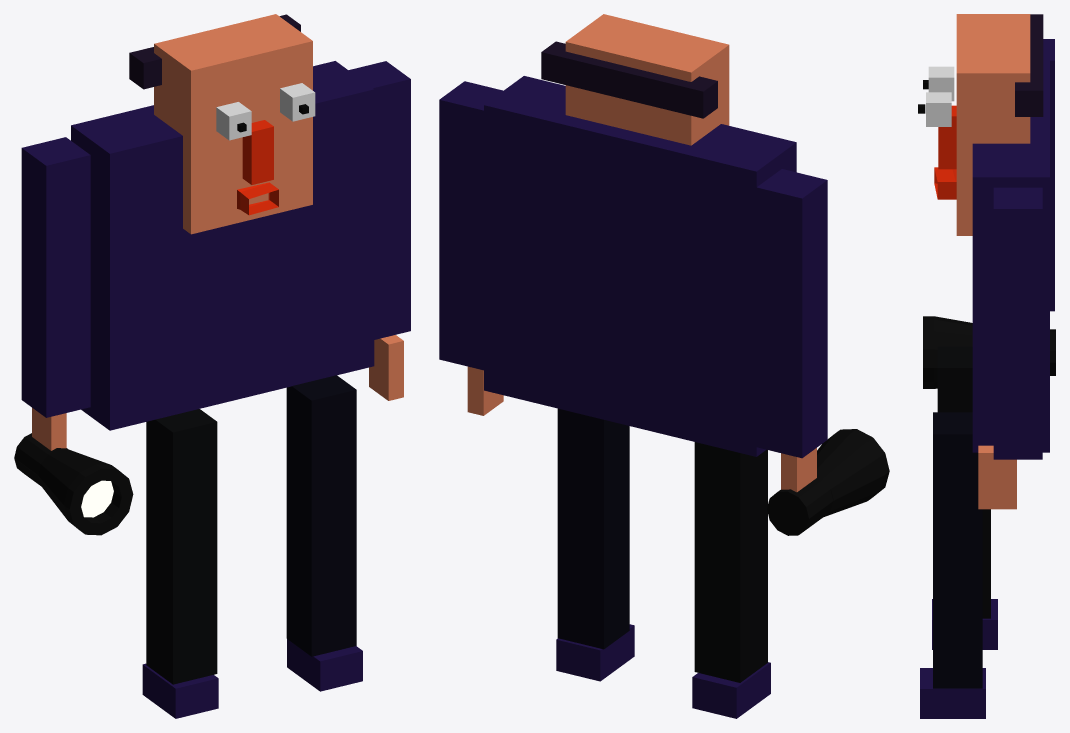
Rendered from man.glb.
The picture shows the model from 3 angles, left to right: view 1: azimuth 30°, elevation 25°; view 2: azimuth 150°, elevation 25°; view 3: azimuth 270°, elevation 25°; orthographic projection. The views are drawn at different scales.
Parts seen in each view (by area): view 1: Cube, Cube.001, Cube.005, Cube.006, Cube.004, Cube.003, Cylinder, Cube.008, Cube.007, Cube.009, Cube.011, Cube.014 (+4 smaller); view 2: Cube, Cube.004, Cube.006, Cube.005, Cube.003, Cube.001, Cylinder, Cube.014, Cube.008, Cube.007, Cube.010, Cube.009; view 3: Cube.003, Cube.005, Cube, Cube.001, Cube.006, Cube.007, Cylinder, Cube.009, Cube.014, Cube.004, Cube.011, Cube.013 (+3 smaller).
Boxes of the visible parts, box(x1,y1,x2,y2) form: Cube: box(71, 61, 374, 430); Cube.001: box(154, 14, 312, 234); Cube.005: box(286, 375, 356, 656); Cube.006: box(146, 409, 217, 684); Cube.004: box(21, 137, 90, 417); Cube.003: box(348, 61, 410, 339); Cylinder: box(14, 433, 133, 535); Cube.008: box(142, 663, 218, 718); Cube.007: box(287, 639, 362, 691); Cube.009: box(369, 335, 403, 400); Cube.011: box(242, 120, 273, 184); Cube.014: box(129, 14, 300, 89); Cube: box(484, 76, 796, 456); Cube.004: box(756, 169, 827, 458); Cube.006: box(694, 442, 767, 682); Cube.005: box(557, 408, 629, 649); Cube.003: box(439, 81, 502, 370); Cube.001: box(565, 14, 729, 145); Cylinder: box(767, 429, 889, 535); Cube.014: box(541, 41, 717, 118); Cube.008: box(692, 662, 770, 718); Cube.007: box(556, 624, 634, 681); Cube.010: box(781, 448, 816, 492); Cube.009: box(467, 366, 503, 415); Cube.003: box(993, 187, 1042, 459); Cube.005: box(933, 412, 982, 688); Cube: box(972, 49, 1049, 452); Cube.001: box(956, 14, 1030, 235); Cube.006: box(937, 346, 990, 618); Cube.007: box(920, 668, 985, 718); Cylinder: box(923, 316, 1055, 388); Cube.009: box(978, 445, 1016, 509); Cube.014: box(1015, 14, 1043, 116); Cube.004: box(1043, 39, 1054, 311); Cube.011: box(938, 105, 956, 169); Cube.013: box(926, 92, 951, 126).
Bounding box in the file's own units: 3.23 × 5.2 × 1.03.
